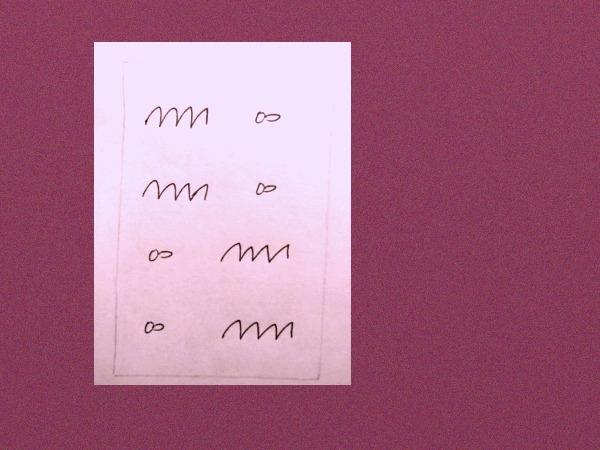switch: (140, 240, 180, 269), (249, 103, 288, 131), (250, 177, 287, 202), (138, 315, 171, 340)
text: (214, 310, 299, 351), (139, 172, 214, 207), (213, 237, 294, 268), (142, 101, 214, 132)
